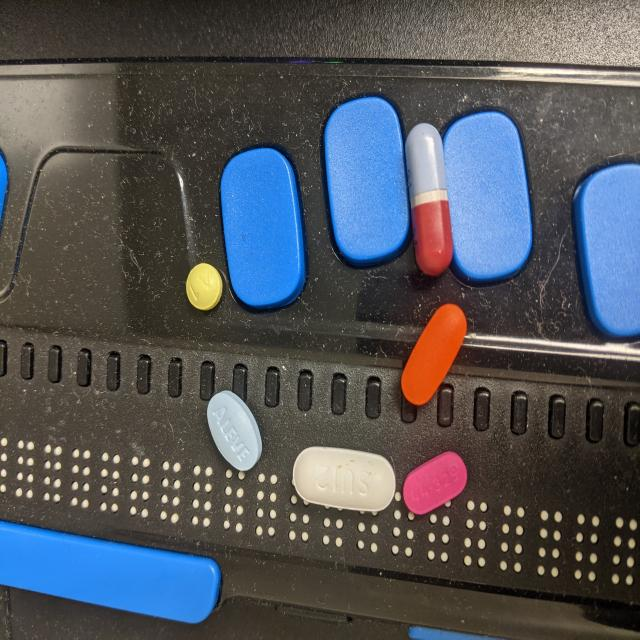non-organic waste: (404, 121, 455, 278), (400, 302, 468, 408), (292, 444, 397, 512), (205, 389, 262, 473), (402, 449, 468, 516), (185, 262, 224, 311)
